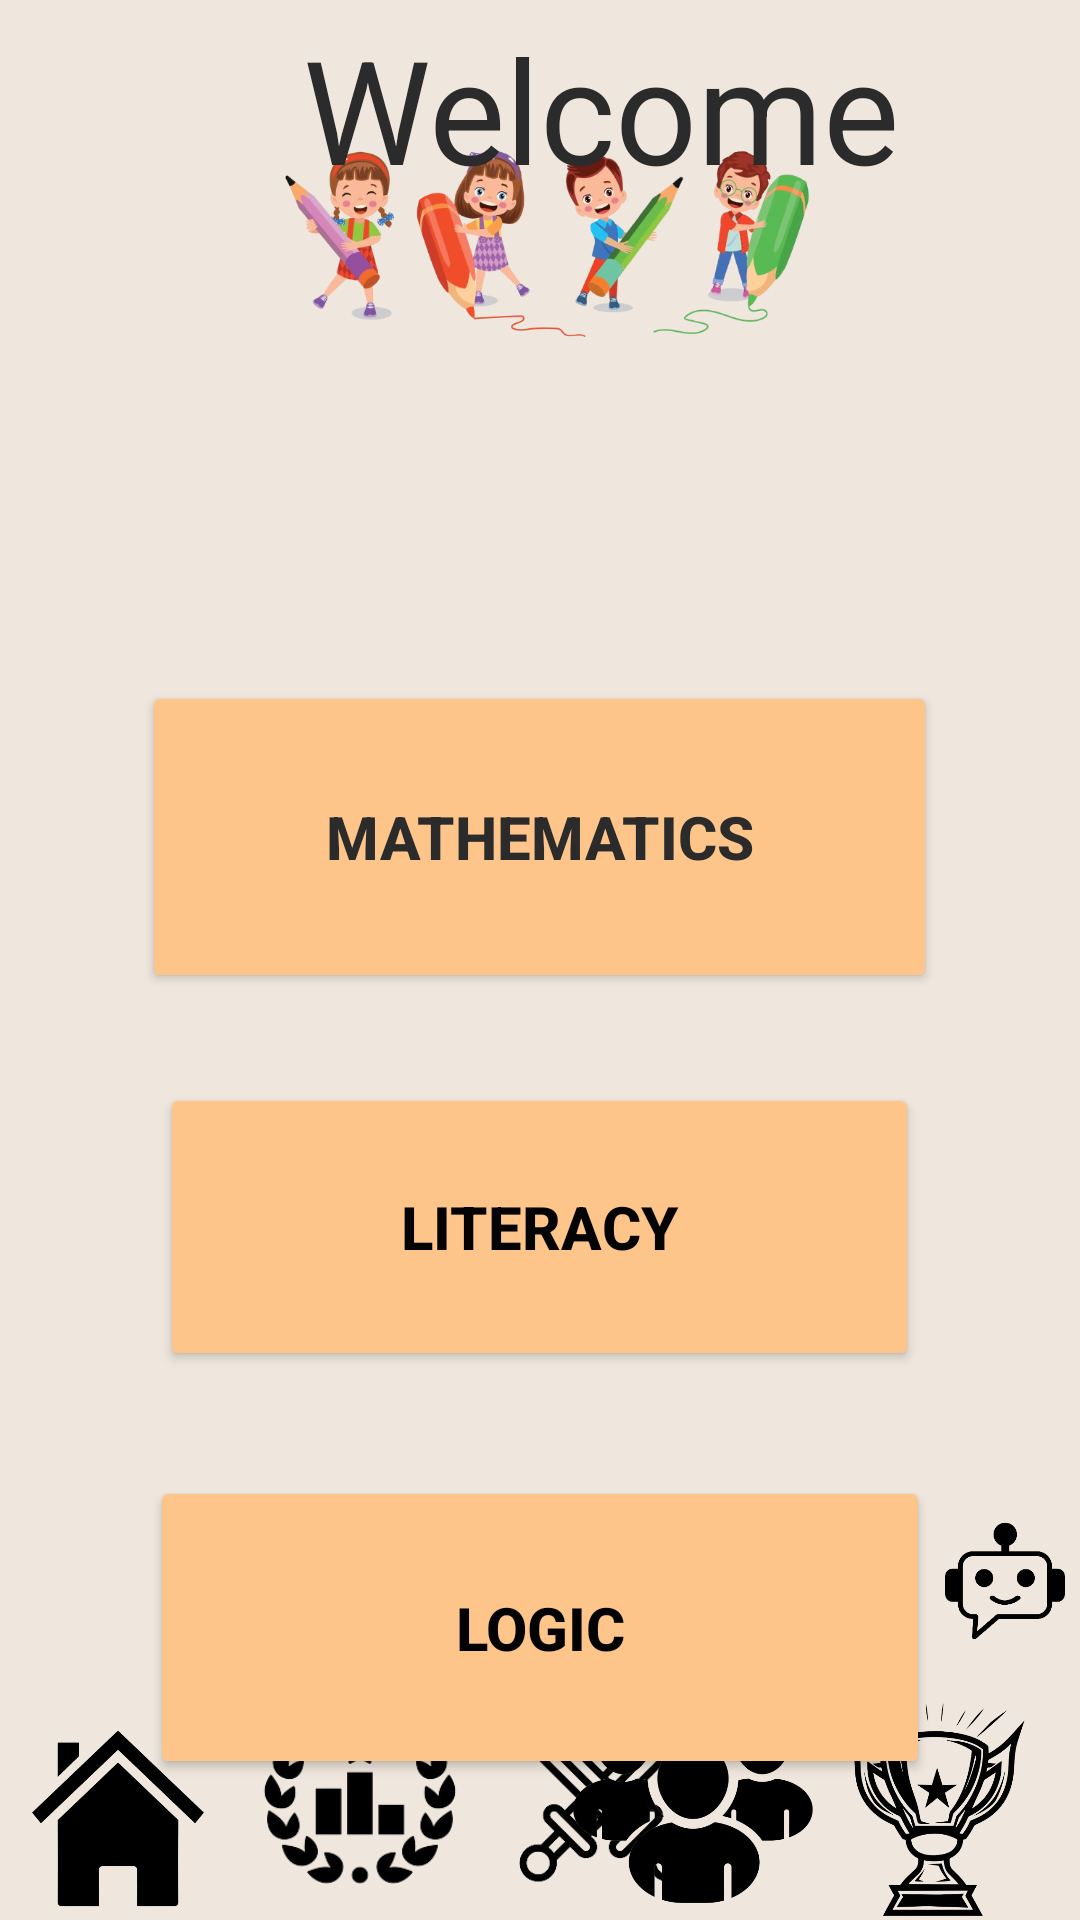

Where icons sit on this 1080w x 1920h app screen, as region(x1, y1, x2, y2):
chatbot: region(945, 1523, 1065, 1639)
rewa: region(798, 1691, 1024, 1916)
